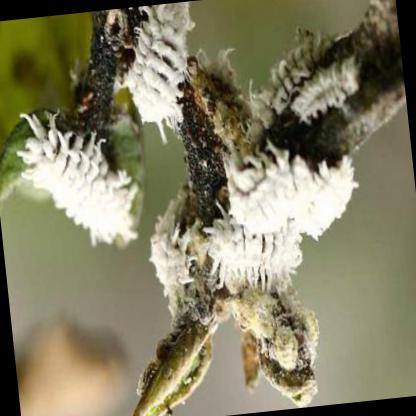mealy bug: (21, 112, 135, 242), (221, 149, 352, 241), (122, 5, 189, 125), (208, 214, 298, 289)
